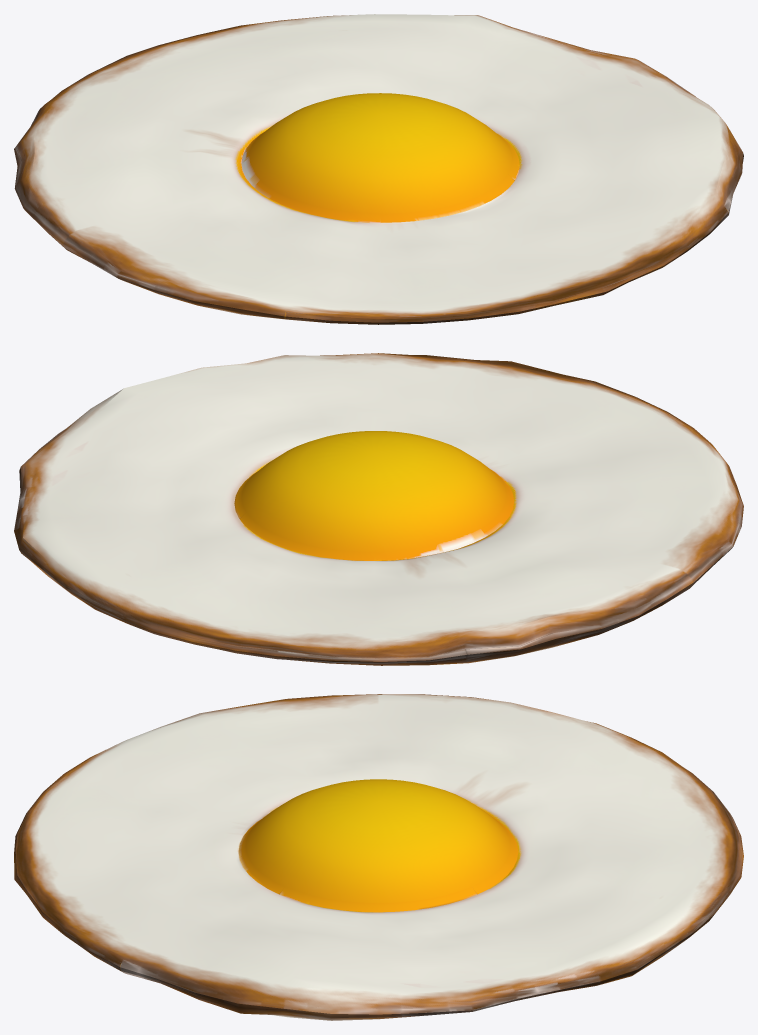
File: egg.obj
3 renders of one model, top to bottom at view 1: azimuth 30°, elevation 25°; view 2: azimuth 150°, elevation 25°; view 3: azimuth 270°, elevation 25°, orthographic.
Visible parts, largest first — view 1: Procedual_Fried_Egg; view 2: Procedual_Fried_Egg; view 3: Procedual_Fried_Egg.
Boxes of the visible parts, x1,y1,x2,y2 form: Procedual_Fried_Egg: (14, 14, 743, 324); Procedual_Fried_Egg: (14, 353, 743, 665); Procedual_Fried_Egg: (14, 694, 743, 1020).
Bounding box in the file's own units: 0.4574 × 0.0523 × 0.4552.
1 material, 1 textured.
